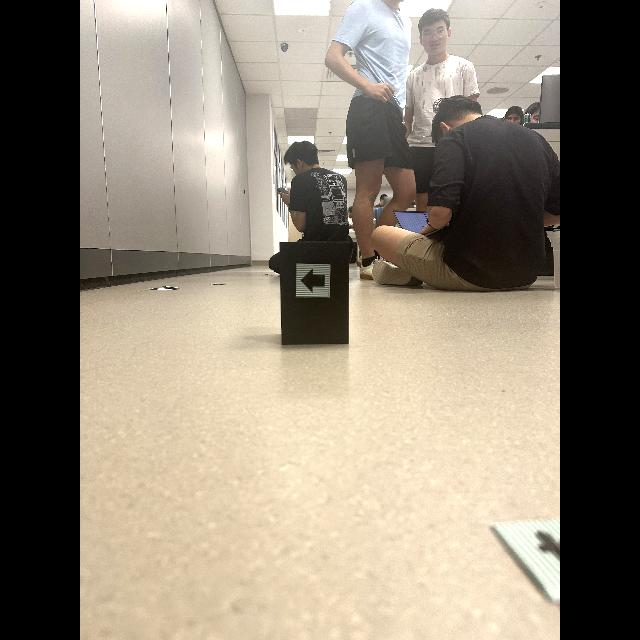LEFT: (301, 268, 325, 292)
